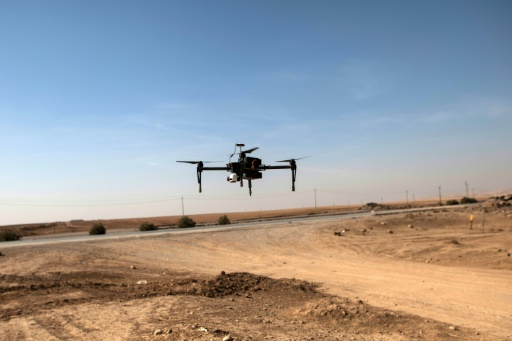drone: (176, 143, 315, 198)
